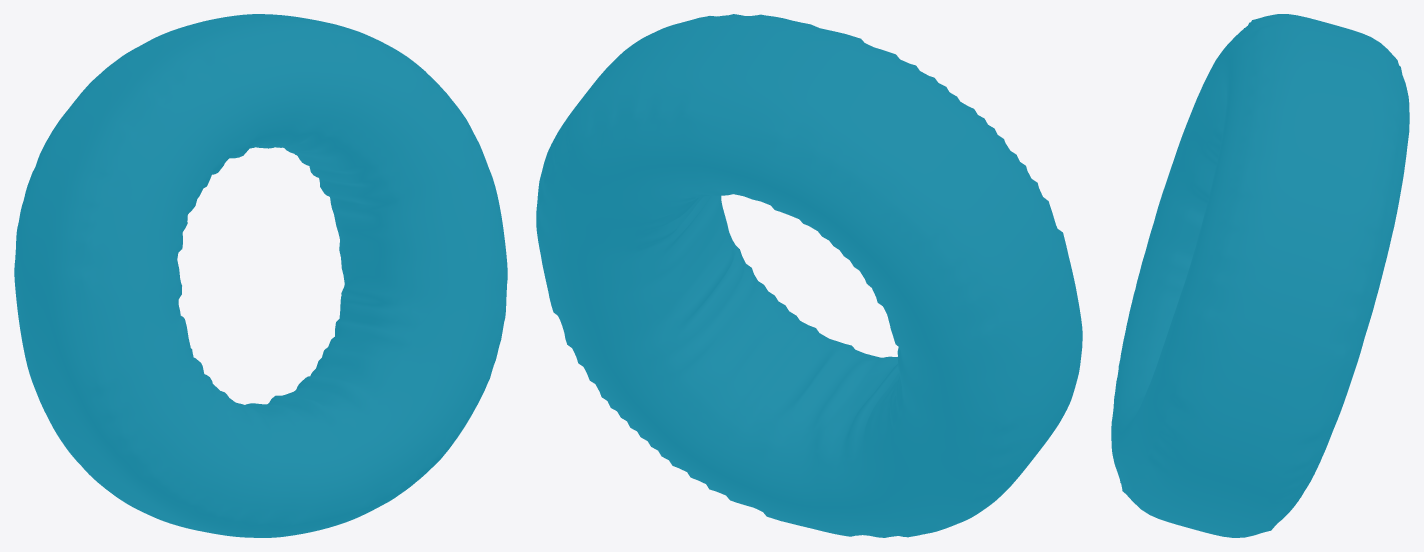
The model's file is obukva1.glb.
3 renders of one model, left to right at view 1: azimuth 30°, elevation 25°; view 2: azimuth 150°, elevation 25°; view 3: azimuth 270°, elevation 25°, orthographic. The views are drawn at different scales.
Parts seen in each view (by area): view 1: Text; view 2: Text; view 3: Text.
Boxes of the visible parts, x1=… form: Text: x1=14, y1=14, x2=507, y2=537; Text: x1=536, y1=14, x2=1082, y2=537; Text: x1=1111, y1=14, x2=1409, y2=537.
Size of the model in its own units: 0.6016 by 0.6065 by 0.3493.
